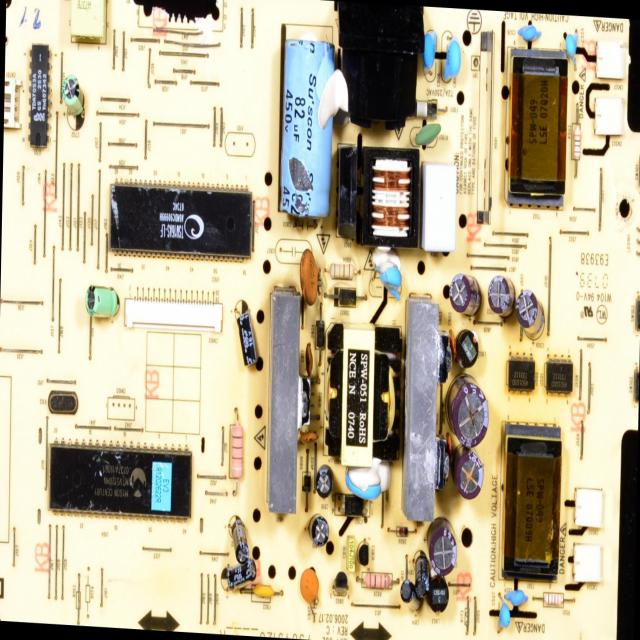Capacitor: (427, 520, 457, 572), (233, 303, 258, 365), (449, 273, 483, 317), (453, 449, 482, 497), (517, 292, 547, 337), (486, 271, 515, 317), (86, 280, 119, 319), (228, 515, 249, 566), (372, 263, 403, 297), (345, 467, 379, 496), (61, 77, 85, 117), (222, 559, 256, 586), (445, 38, 462, 84), (309, 512, 329, 547), (400, 581, 420, 612), (415, 555, 429, 597), (424, 28, 436, 76), (316, 466, 332, 497), (519, 22, 541, 44), (565, 29, 578, 66), (498, 594, 509, 636), (504, 588, 528, 607), (347, 535, 355, 573)
Connector: (124, 288, 224, 336), (595, 40, 624, 80), (594, 97, 623, 135), (4, 77, 22, 130)
IC: (108, 177, 255, 264), (49, 439, 193, 526), (28, 44, 52, 148), (545, 358, 573, 397), (508, 356, 535, 393)
Resistor Network: (229, 425, 243, 481), (534, 589, 567, 609), (330, 259, 354, 281), (362, 573, 392, 589), (571, 123, 580, 158)
Transistor: (280, 34, 336, 220)
